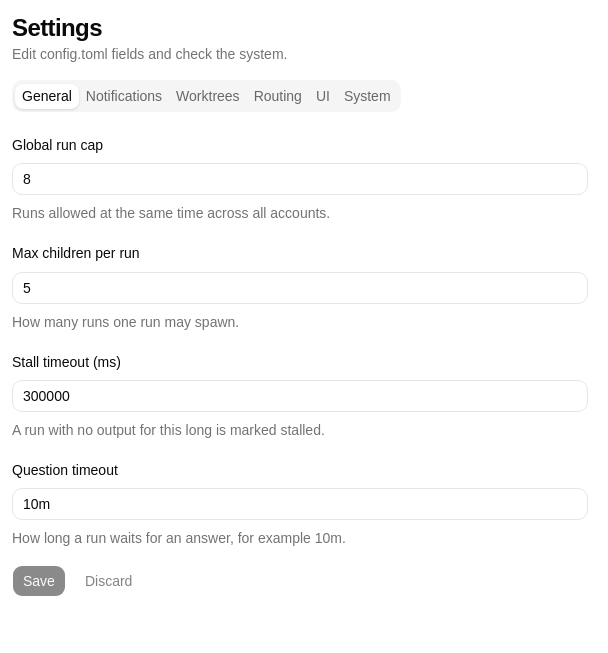
SettingsPage config › shows a server error on a failed save
Replace the text in the number field labelled "Global run cap" with "3" at coordinates (300, 179), box [12,163,588,195]
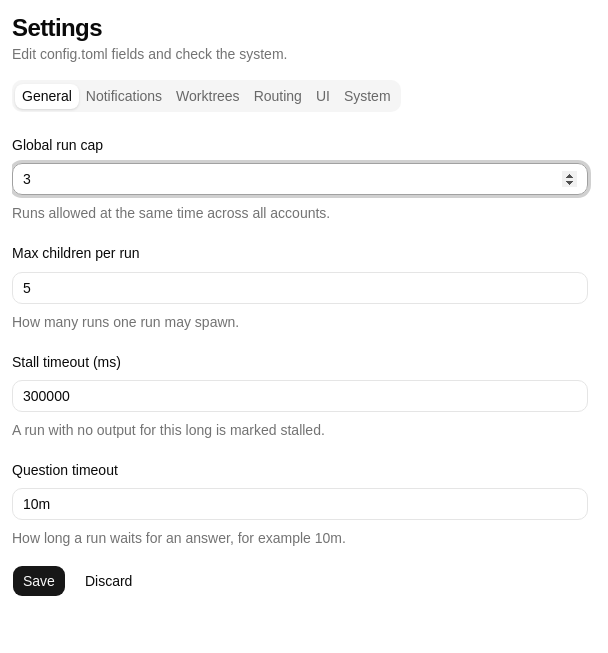
Click the button "Save" at coordinates (39, 581), box [12,565,66,597]
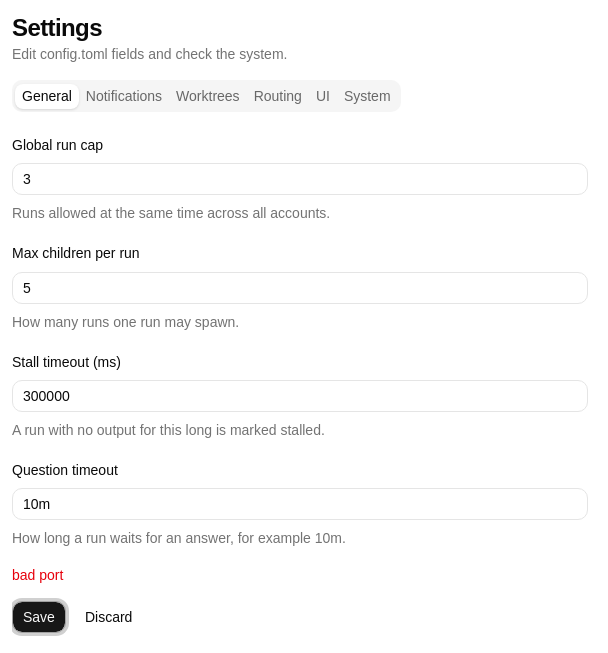
Now the text "bad port" is shown, box [12,567,63,583]
